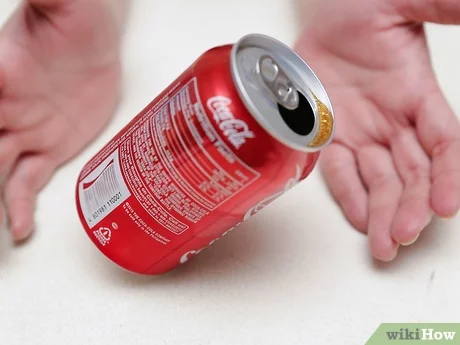can: (64, 27, 343, 287)
